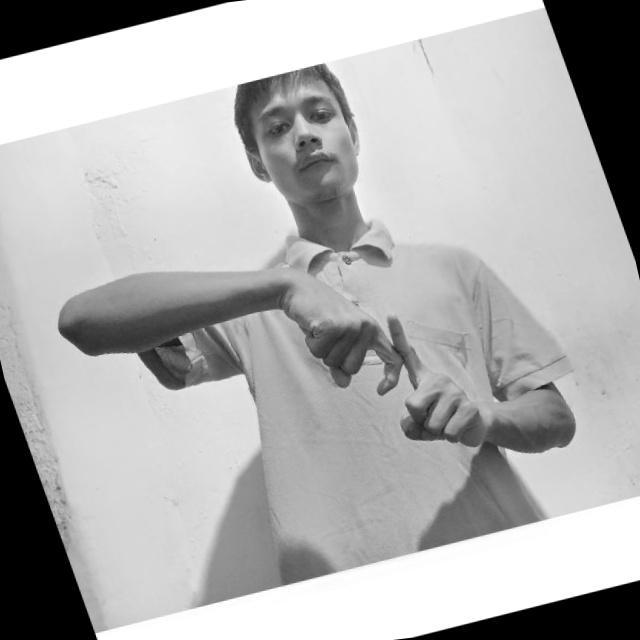K: (319, 284, 492, 452)
